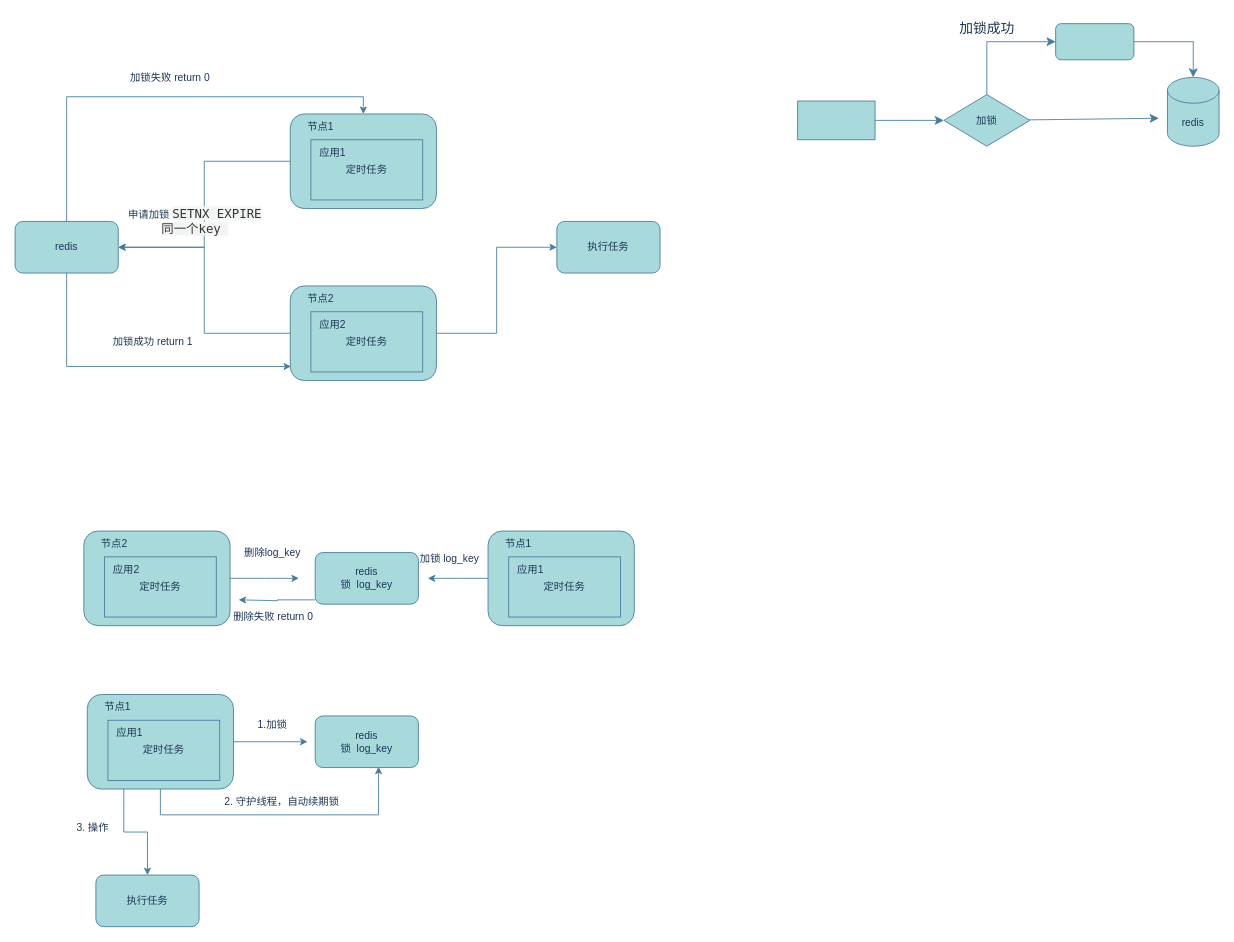
Some shapes in this 1234 by 942 pixel diagram are drawn without their labels. Each missing label, with the centre of its shape:
watch dog: the point at 1094,41
线程: the point at 836,120
